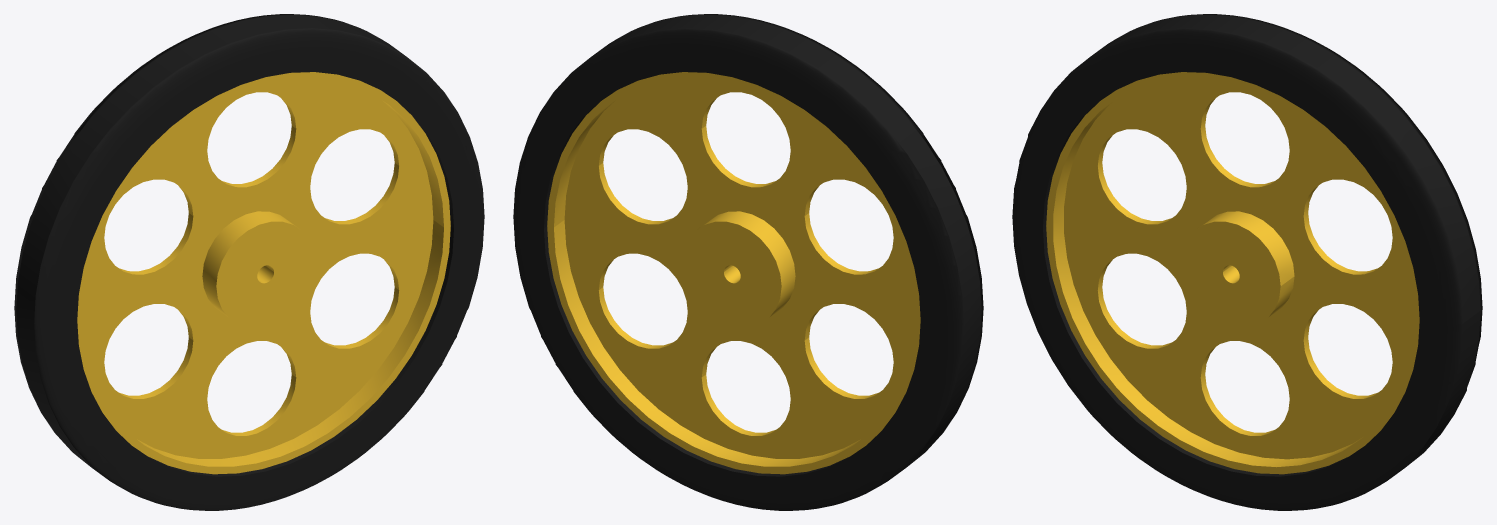
Rendered from pololu-1432-wheel-80x10.glb.
3 views of the same model, side by side, from view 1: azimuth 30°, elevation 25°; view 2: azimuth 150°, elevation 25°; view 3: azimuth 330°, elevation 25° (orthographic).
Visible parts, largest first — view 1: rim, tyre; view 2: rim, tyre; view 3: rim, tyre.
Part boxes in pixels (x1,y1,x2,y2): rim: (77,72,450,474); tyre: (14,14,484,510); rim: (547,72,920,474); tyre: (513,14,983,510); rim: (1046,72,1419,474); tyre: (1012,14,1482,510).
Bounding box in the file's own units: 80 × 80 × 10.
